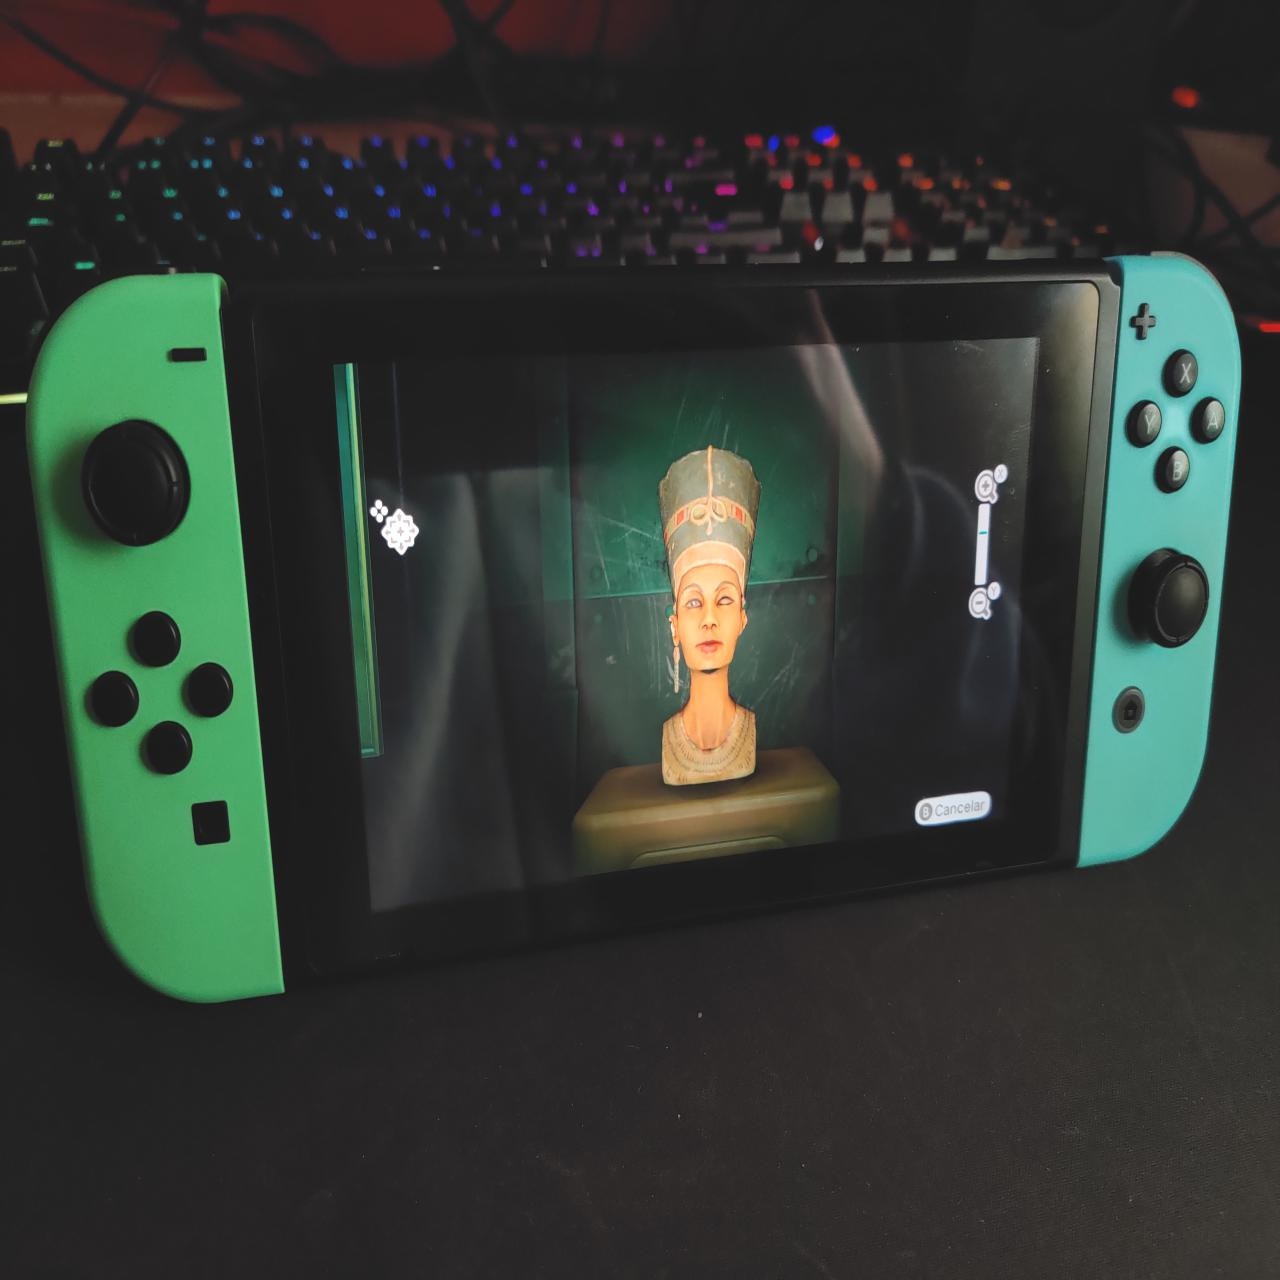NefertitiFake: (659, 452, 761, 782)
